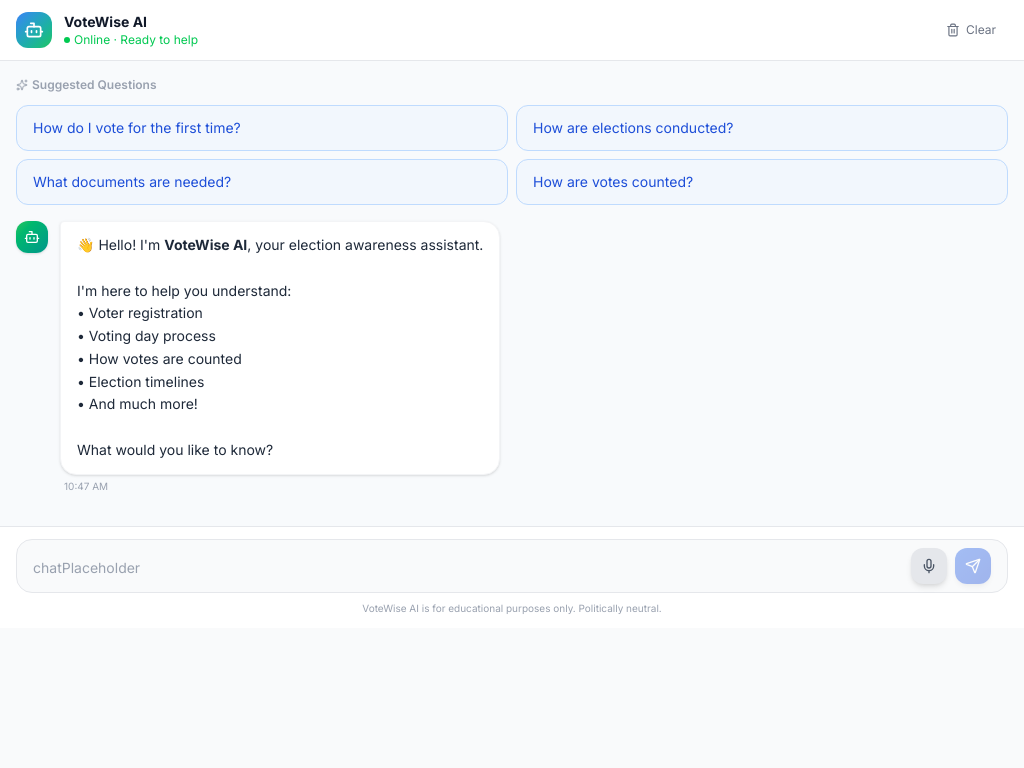
Scenario: ChatBox Component › allows user to send a message and renders AI response
Type "How do I vote?" into the text box with placeholder "chatPlaceholder".
click(468, 568); type("How do I vote?")  # box [33,552,903,584]
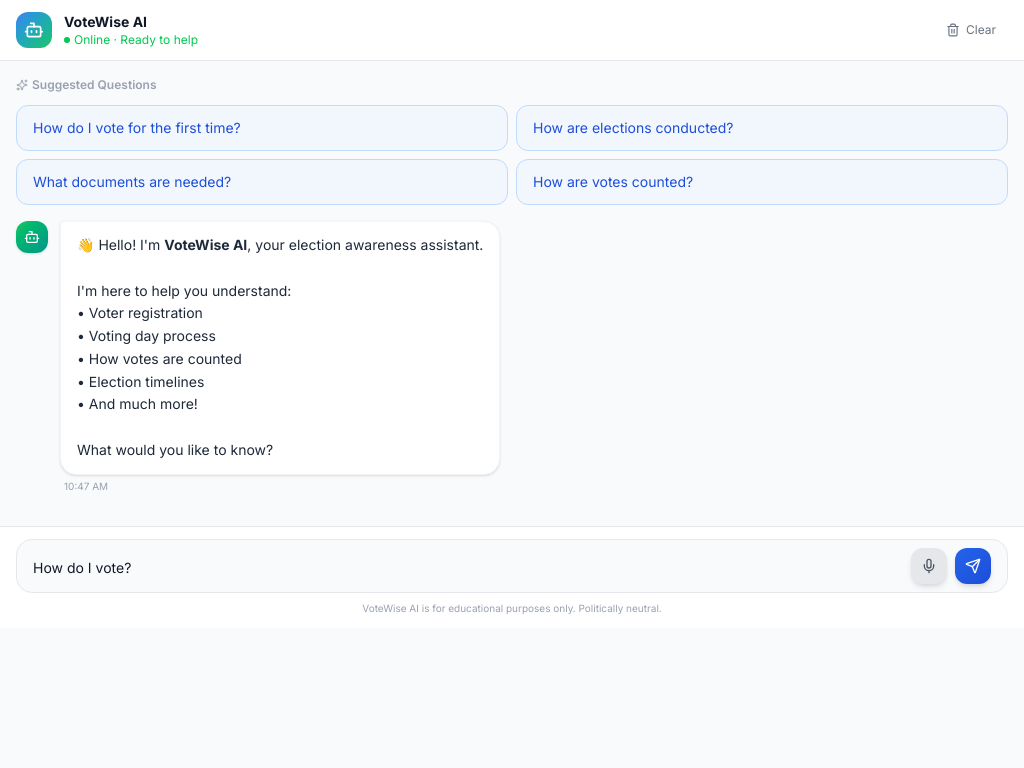
Press Enter in the text box with placeholder "chatPlaceholder", box [33,552,903,584]
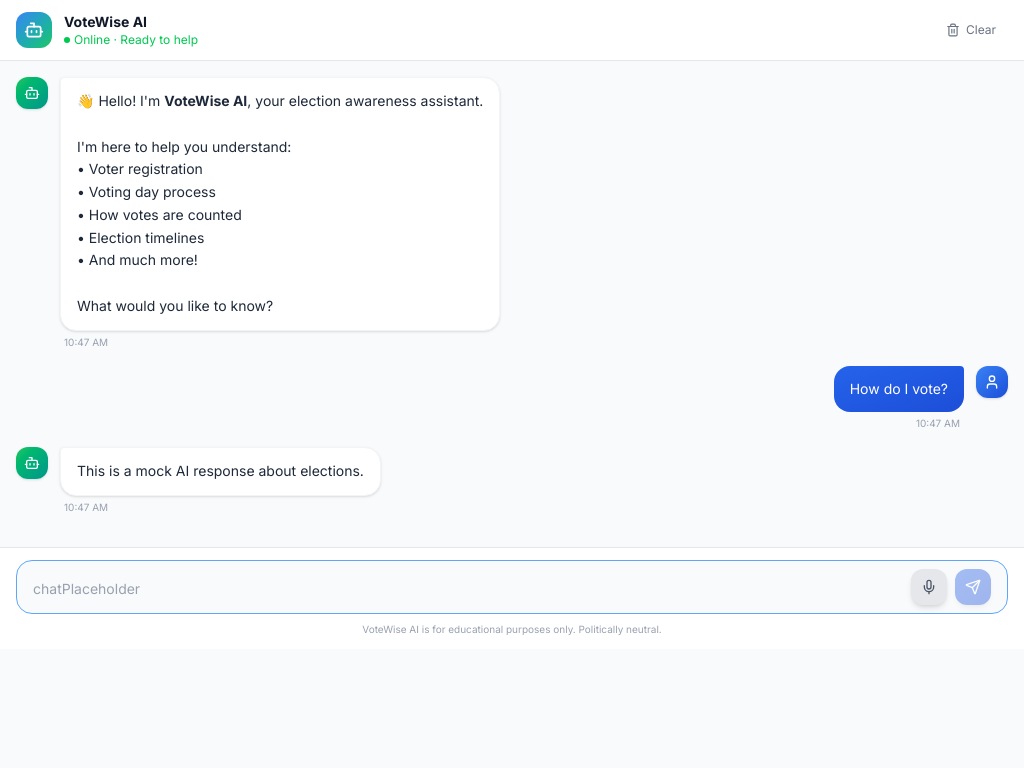
Check: the text "How do I vote?" is shown, box [834,366,964,412]
Check: the text "This is a mock AI response about elections." is shown, box [60,447,381,496]
